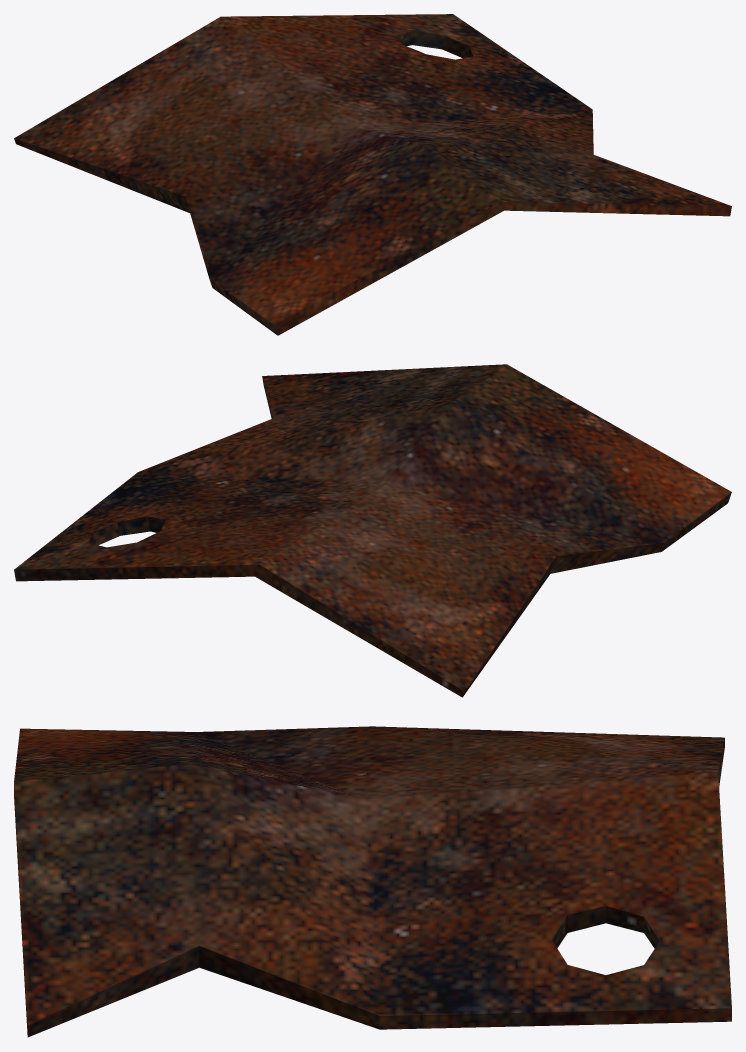
The model's file is scrap.glb.
3 views of the same model, one above another, from view 1: azimuth 30°, elevation 25°; view 2: azimuth 150°, elevation 25°; view 3: azimuth 270°, elevation 25° (orthographic). The views are drawn at different scales.
Parts seen in each view (by area): view 1: Cube; view 2: Cube; view 3: Cube.
Part boxes in pixels (<box>): Cube: <box>14,14,731,335</box>; Cube: <box>14,364,731,697</box>; Cube: <box>14,726,731,1037</box>.
Bounding box in the file's own units: 2.03 × 0.3841 × 2.04.
1 material, 1 textured.
